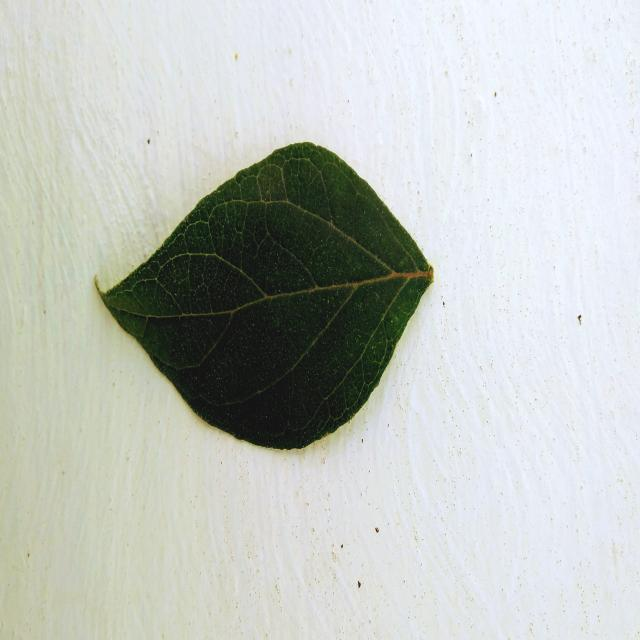leaf: (93, 140, 434, 451)
